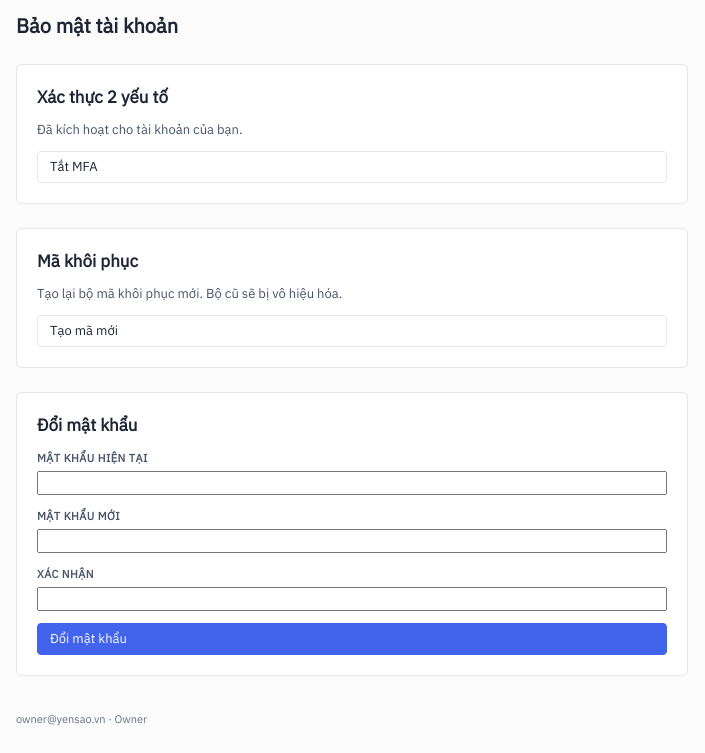
Test: ProfileSecurityScreen (Sprint-9.5 U6) › Regenerate codes button renders RecoveryCodesDisplay on success
The width and height of the screenshot is (705, 753).
Click the button "Tạo mã mới": (84, 330) [37,315,667,347]
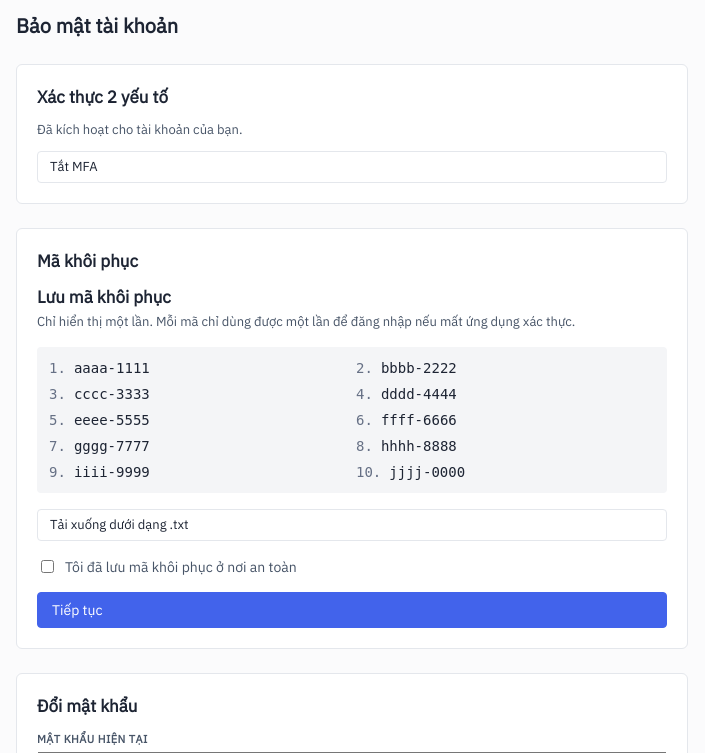
Check: the element with test id "recovery-codes-display" is shown, box [37,285,667,628]
Check: the text "aaaa-1111" is shown, box [74,360,150,376]
